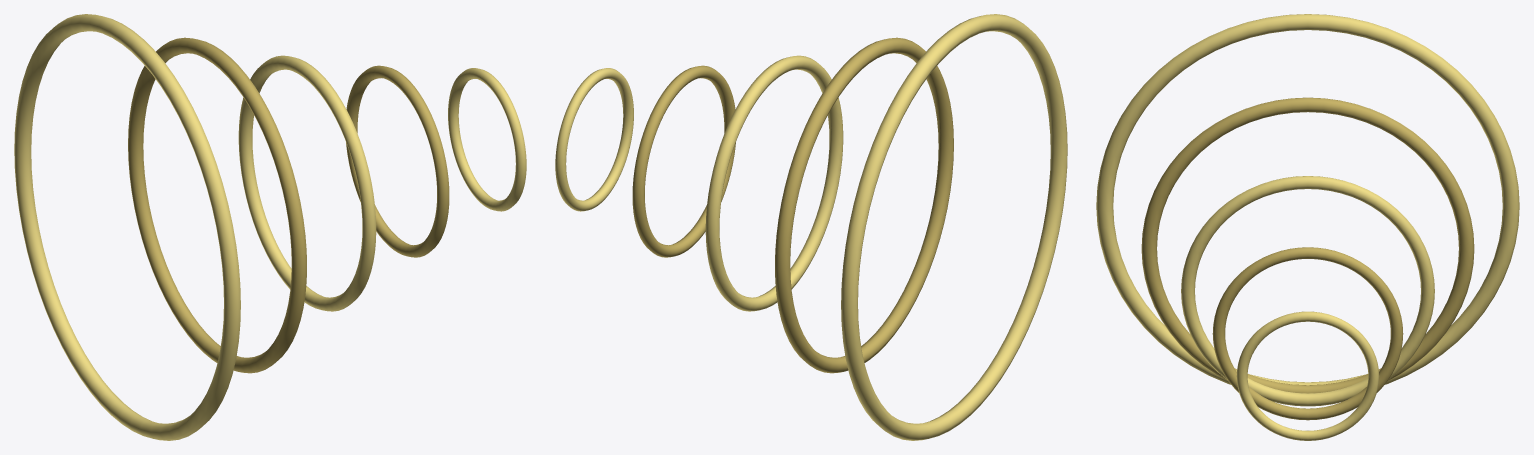
The model's file is ch_limit_rings.gltf.
3 views of the same model, side by side, from view 1: azimuth 30°, elevation 25°; view 2: azimuth 150°, elevation 25°; view 3: azimuth 270°, elevation 25° (orthographic). The views are drawn at different scales.
Parts seen in each view (by area): view 1: EpsRings; view 2: EpsRings; view 3: EpsRings.
Part boxes in pixels (x1,y1,x2,y2): EpsRings: [14, 14, 526, 440]; EpsRings: [555, 14, 1067, 440]; EpsRings: [1096, 14, 1519, 440].
Bounding box in the file's own units: 2.15 × 2.19 × 2.19.
